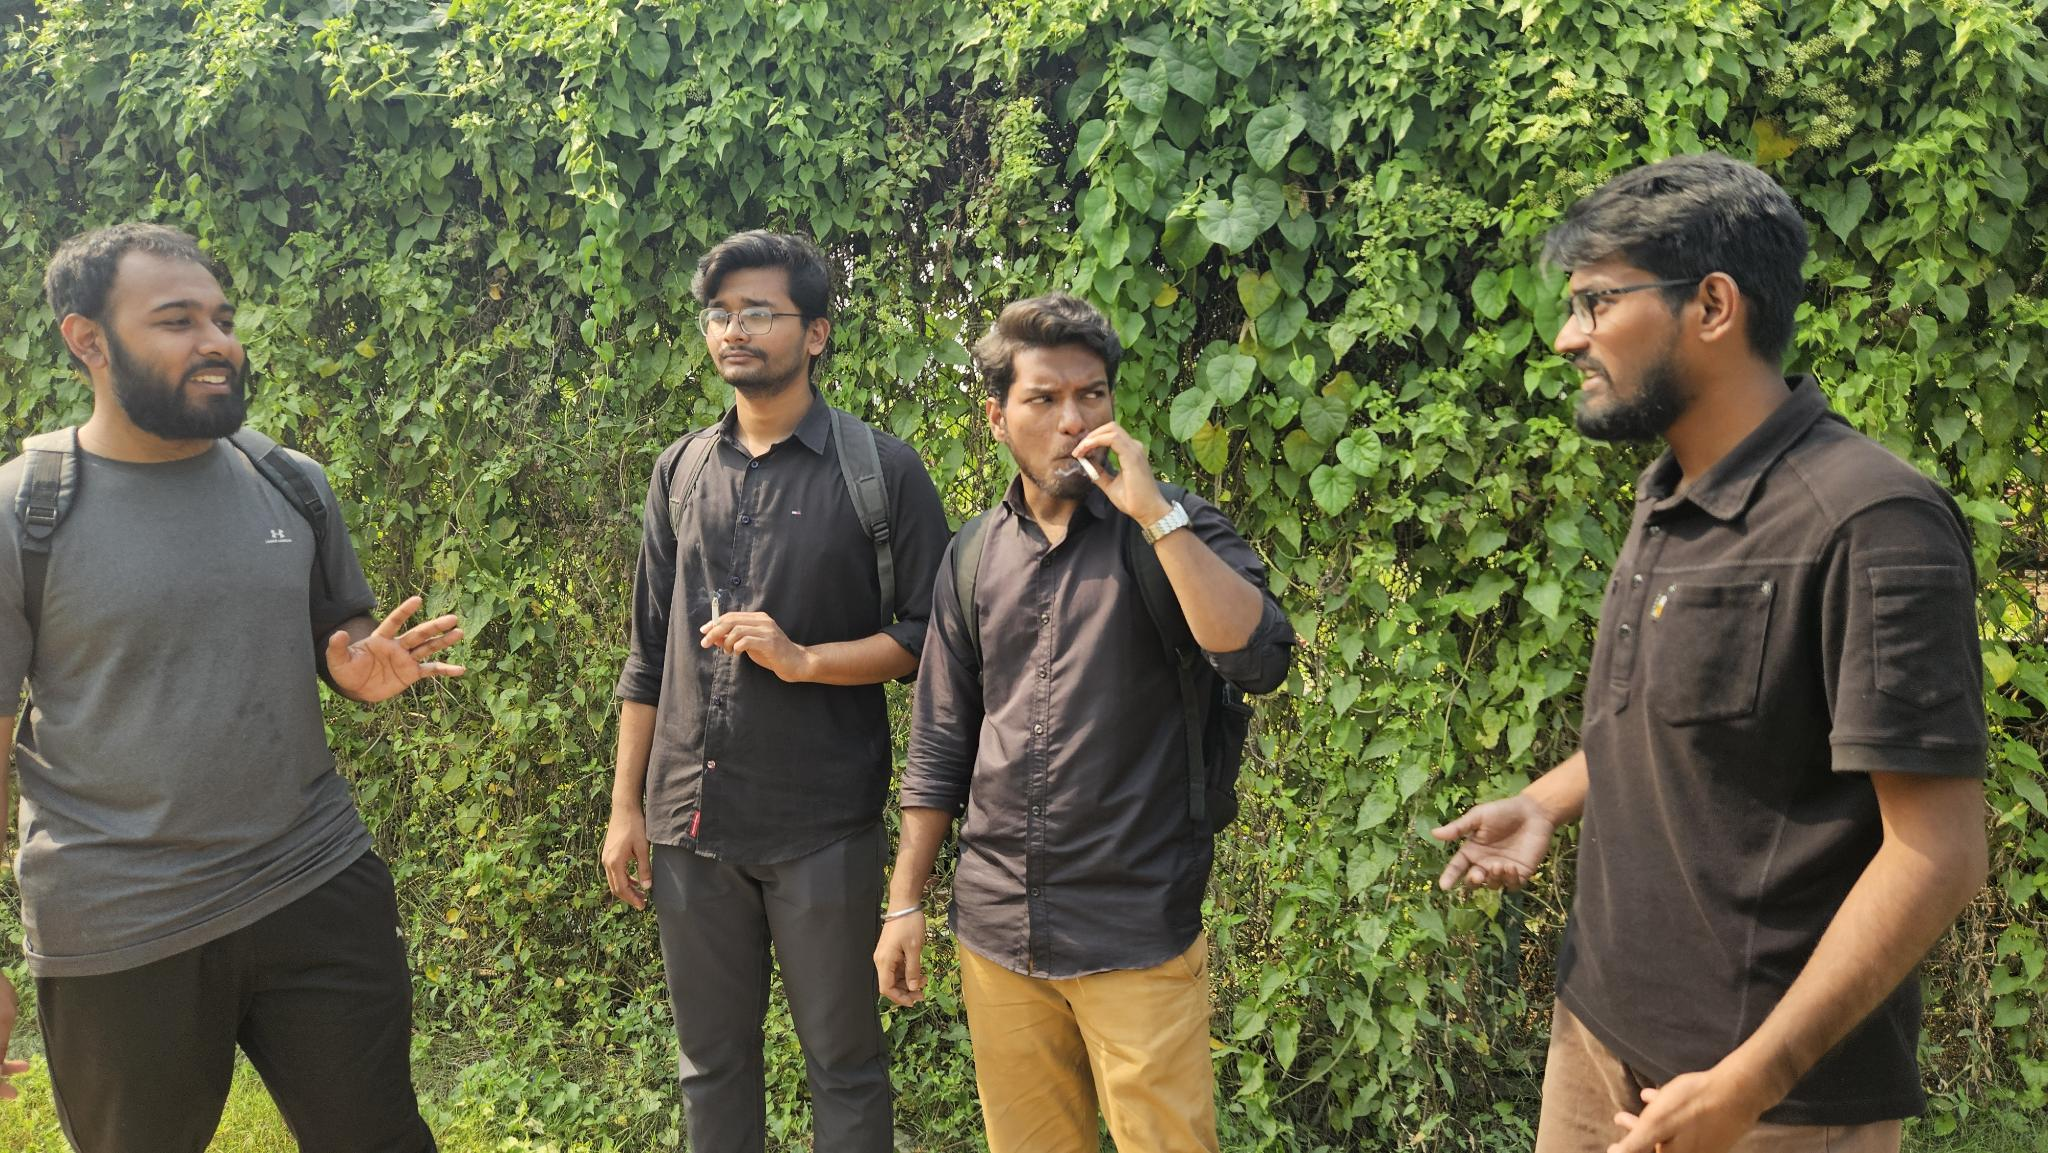cigarette: (1076, 456, 1100, 482), (710, 596, 720, 630)
nonSmoker: (1431, 155, 1989, 1153), (0, 224, 464, 1153)
smoker: (873, 297, 1297, 1153), (602, 229, 951, 1150)
